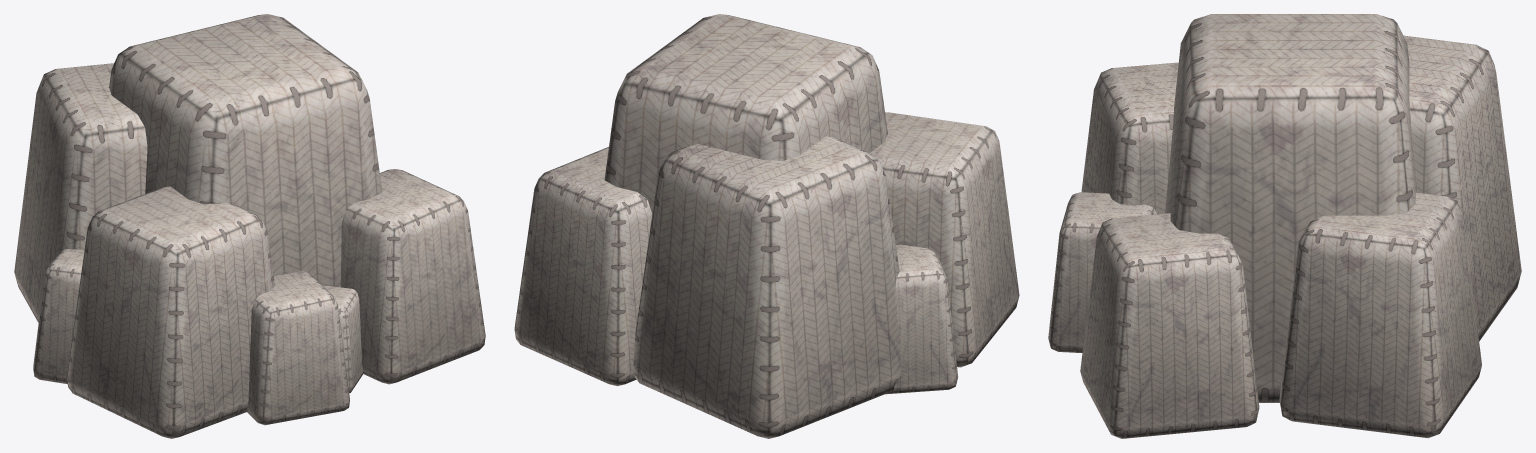
File: lpb_cs_Rock3.fbx
3 renders of one model, left to right at view 1: azimuth 30°, elevation 25°; view 2: azimuth 150°, elevation 25°; view 3: azimuth 270°, elevation 25°, orthographic. The views are drawn at different scales.
Parts seen in each view (by area): view 1: lpb_cs_Rock3; view 2: lpb_cs_Rock3; view 3: lpb_cs_Rock3.
Part boxes in pixels (x1,y1,x2,y2): lpb_cs_Rock3: (14, 14, 485, 438); lpb_cs_Rock3: (514, 14, 1019, 438); lpb_cs_Rock3: (1048, 14, 1521, 438).
Size of the model in its own units: 87.71 by 62.33 by 87.2.
